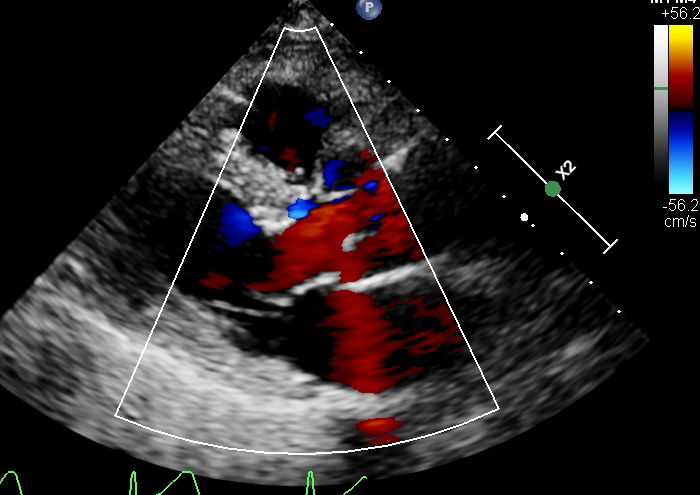AR: (250, 204, 396, 295)
